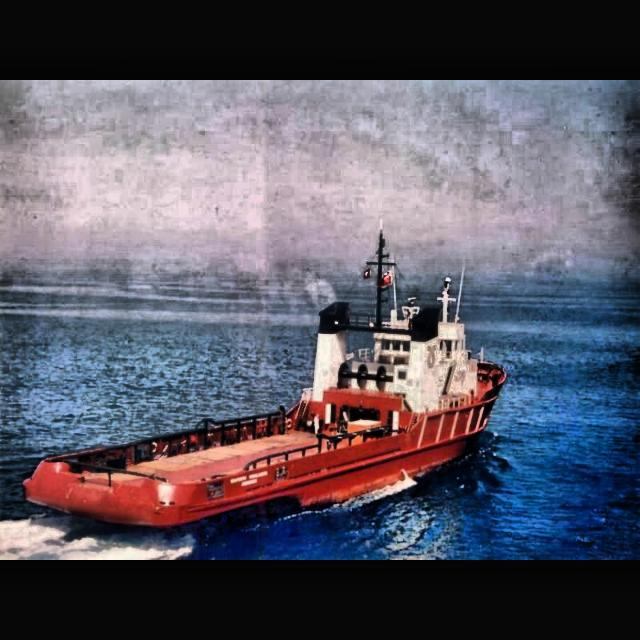anchor_handling_tug_supply: (19, 223, 507, 541)
